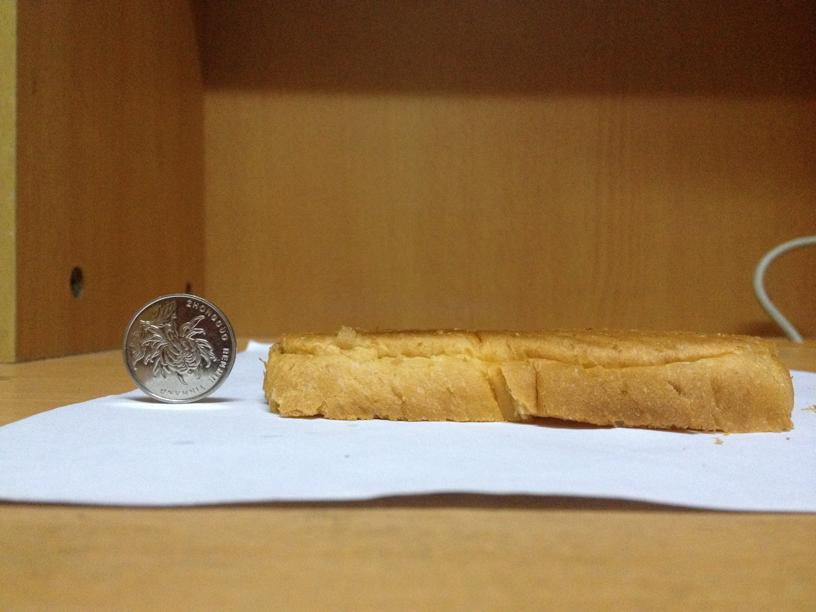bread: (266, 330, 792, 433)
coin: (119, 293, 235, 403)
